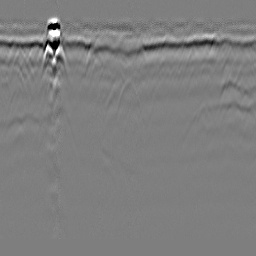cavity: (115, 75, 142, 119)
